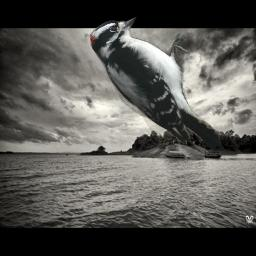Woodpecker: (90, 17, 222, 151)
